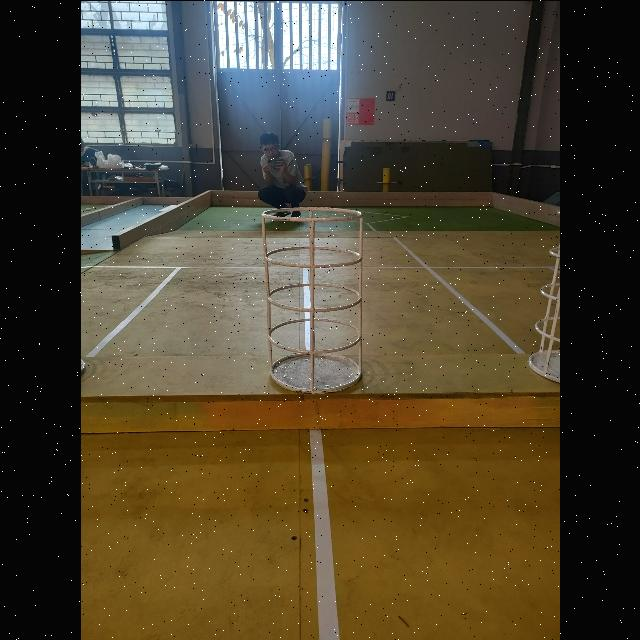S: (259, 203, 369, 396), (527, 205, 560, 388), (80, 317, 91, 381)
